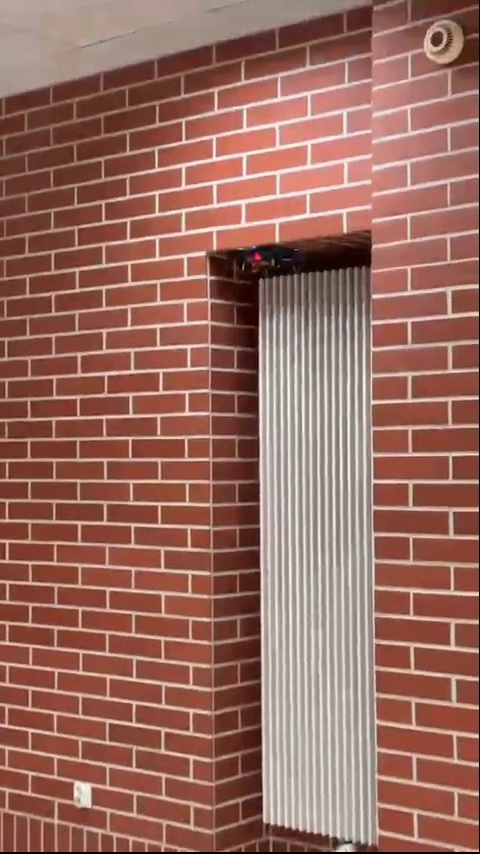drone: (225, 241, 301, 289)
